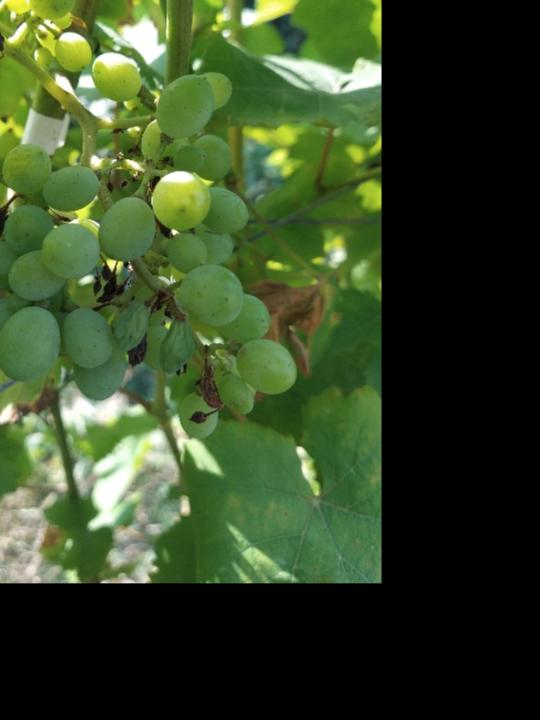grape: (0, 0, 299, 441)
